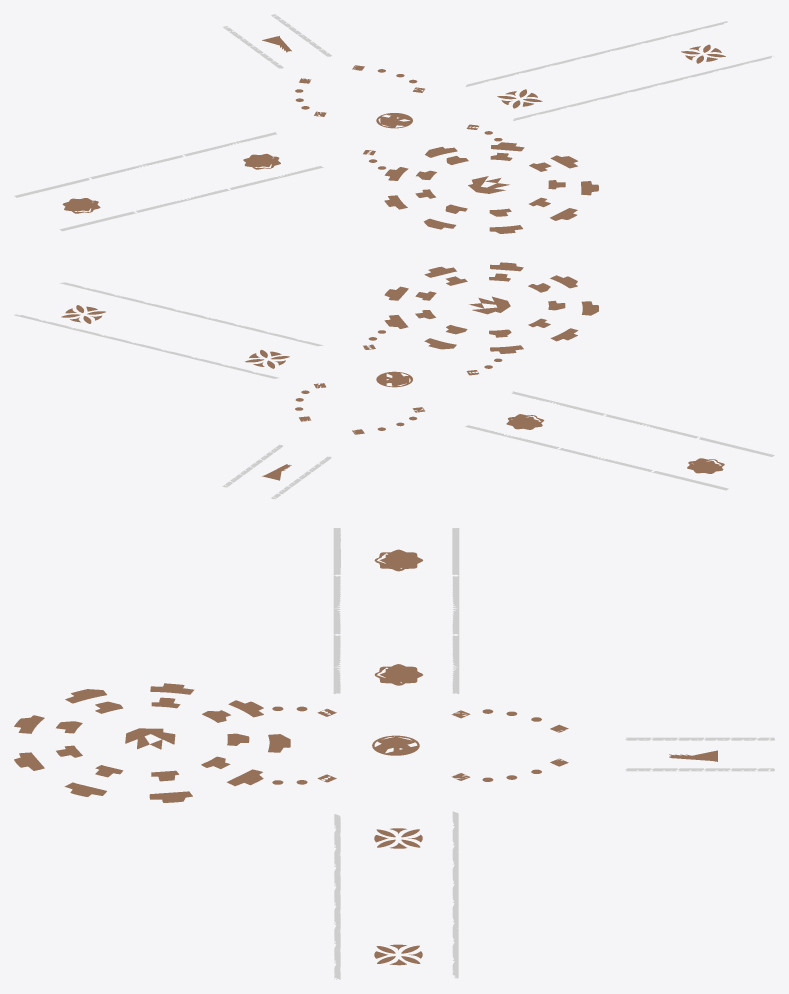
Rendered from Engravings.fbx.
3 renders of one model, top to bottom at view 1: azimuth 30°, elevation 25°; view 2: azimuth 150°, elevation 25°; view 3: azimuth 270°, elevation 25°, orthographic. The views are drawn at different scales.
Parts seen in each view (by area): view 1: North_2, North_1, West_3, West_4, East_4, East_3, Medium, West, West_1, North, Medium_1; view 2: North_2, North_1, West_3, West_4, East_4, East_3, Medium, West, West_1; view 3: North_2, North_1, West_3, West_4, East_3, East_4.
Part boxes in pixels (<box>): North_2: <box>384,142,598,233</box>; North_1: <box>415,152,565,216</box>; West_3: <box>60,166,323,231</box>; West_4: <box>14,132,276,197</box>; East_4: <box>466,21,727,86</box>; East_3: <box>513,55,773,120</box>; Medium: <box>376,113,412,128</box>; West: <box>243,153,280,169</box>; West_1: <box>62,198,100,213</box>; North: <box>468,176,509,193</box>; Medium_1: <box>295,65,424,116</box>; North_2: <box>384,262,598,353</box>; North_1: <box>415,273,565,337</box>; West_3: <box>511,391,774,456</box>; West_4: <box>465,425,728,490</box>; East_4: <box>14,314,278,378</box>; East_3: <box>59,282,323,346</box>; Medium: <box>376,371,412,387</box>; West: <box>506,414,544,429</box>; West_1: <box>687,458,724,473</box>; North_2: <box>14,683,290,802</box>; North_1: <box>56,697,249,781</box>; West_3: <box>333,528,340,693</box>; West_4: <box>452,528,459,693</box>; East_3: <box>334,814,340,979</box>; East_4: <box>452,811,458,978</box>.
Size of the model in its own units: 30015 by 595 by 21366.
